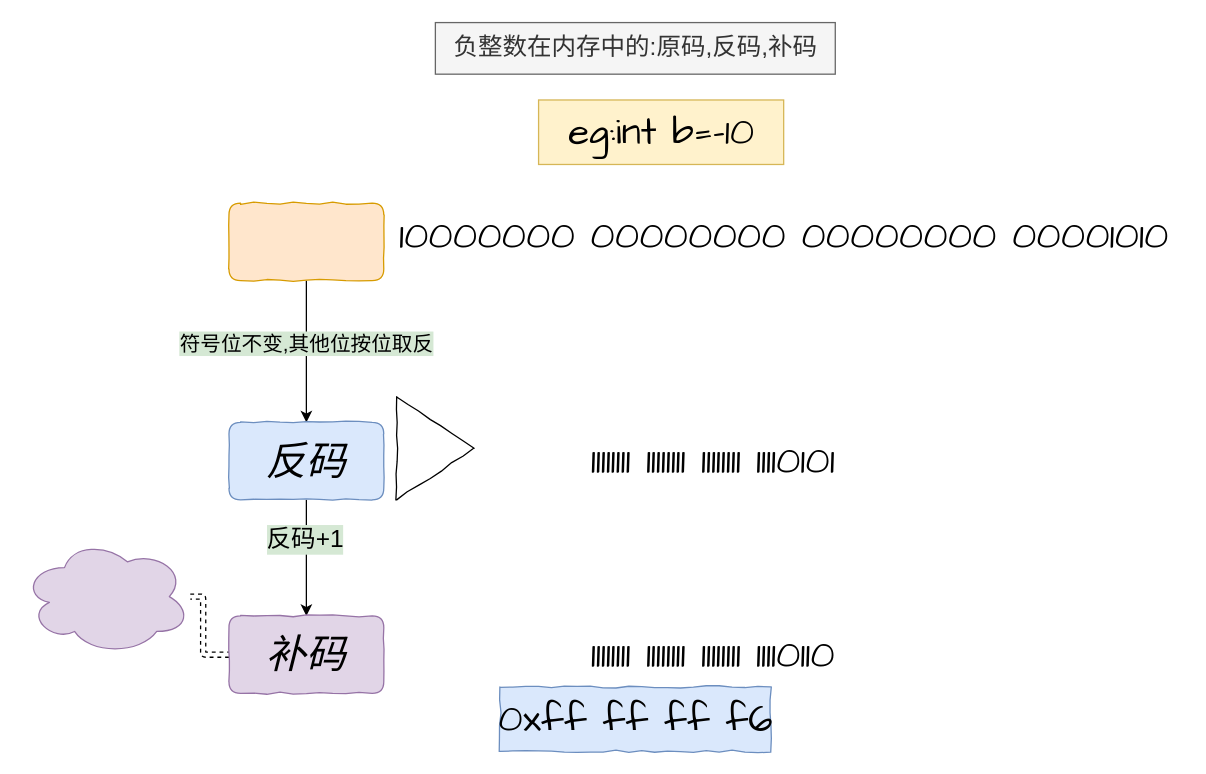
Image size: 1206x774. Some labels were removed from this diagram. The centre of each missing label's shape, as x and y in pixels:
"原码" belongs at point 306,241.
"数据在内存中以补码形式保存" belongs at point 105,596.
